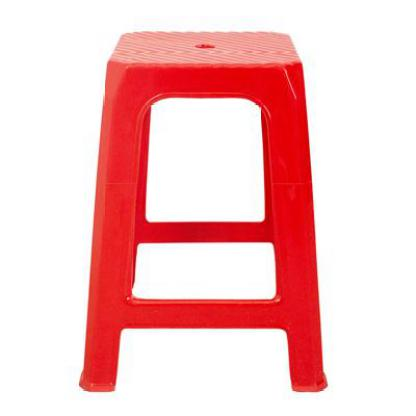chair: (74, 30, 334, 395)
